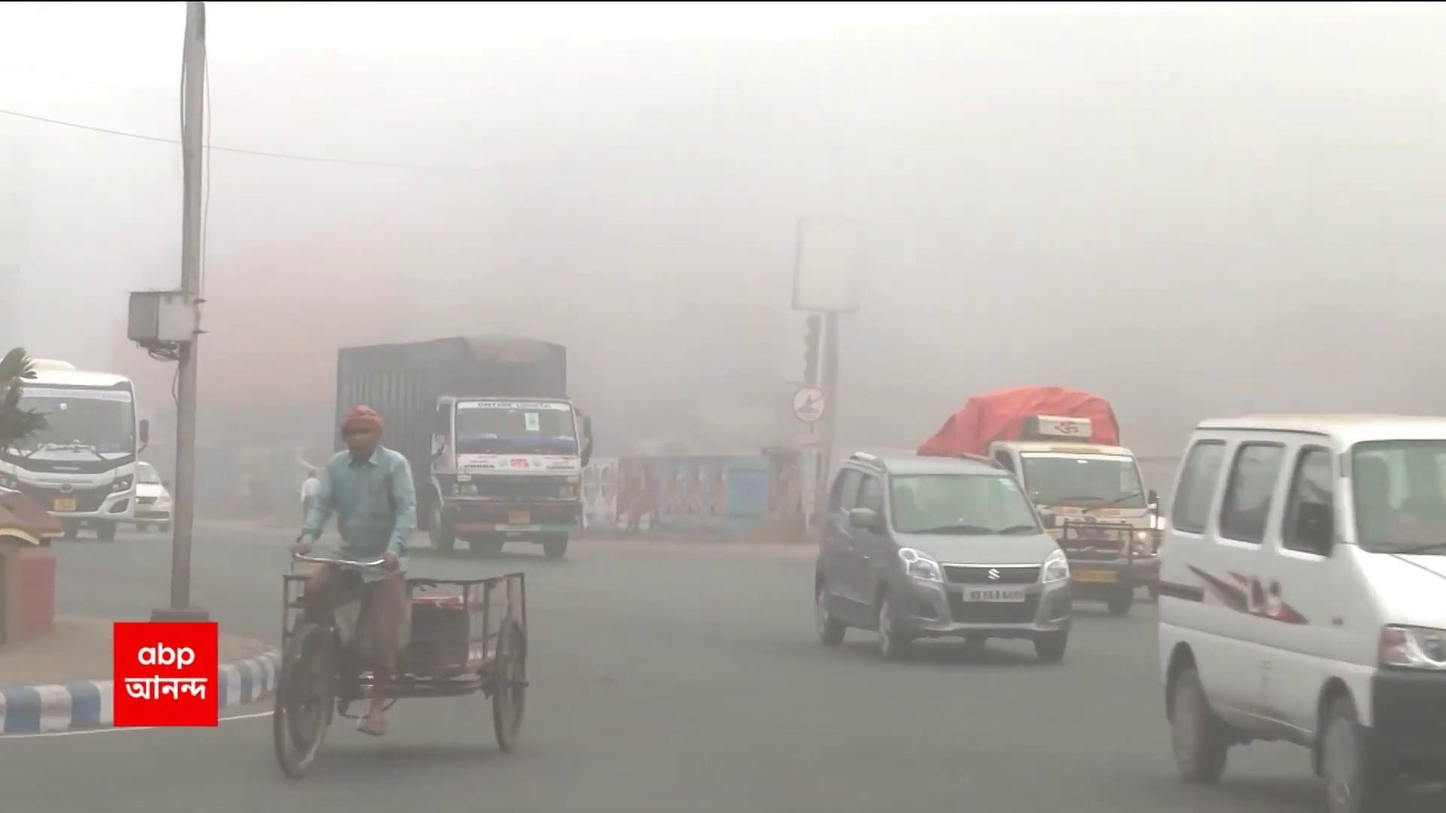Bus: (0, 361, 159, 557)
Car: (1162, 415, 1446, 813), (805, 453, 1074, 658)
Truck: (328, 332, 593, 562), (923, 381, 1161, 614)
